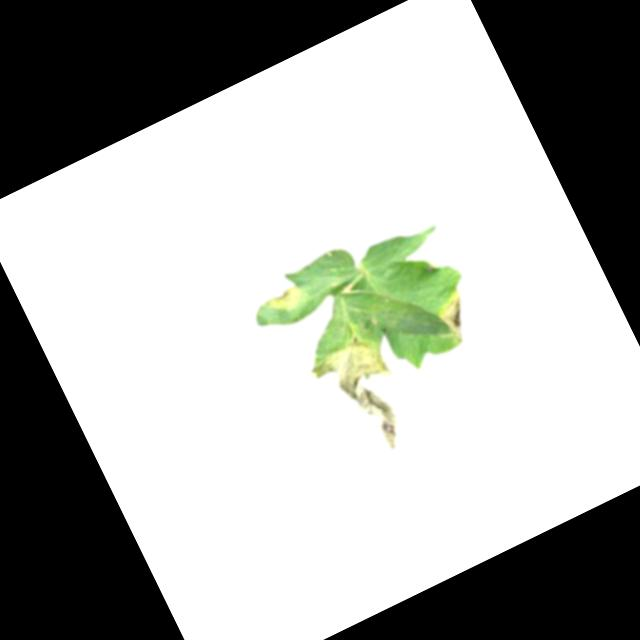Late_blight: (302, 325, 426, 470), (431, 291, 481, 349), (258, 274, 313, 321)
